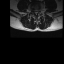CCS_stenosis: (35, 10, 37, 16)
LFS_severe_stenosis: (38, 9, 40, 14)
LLS_stenosis: (37, 9, 38, 14)
RFS_severe_stenosis: (32, 9, 34, 14)
RLS_stenosis: (34, 9, 35, 14)
